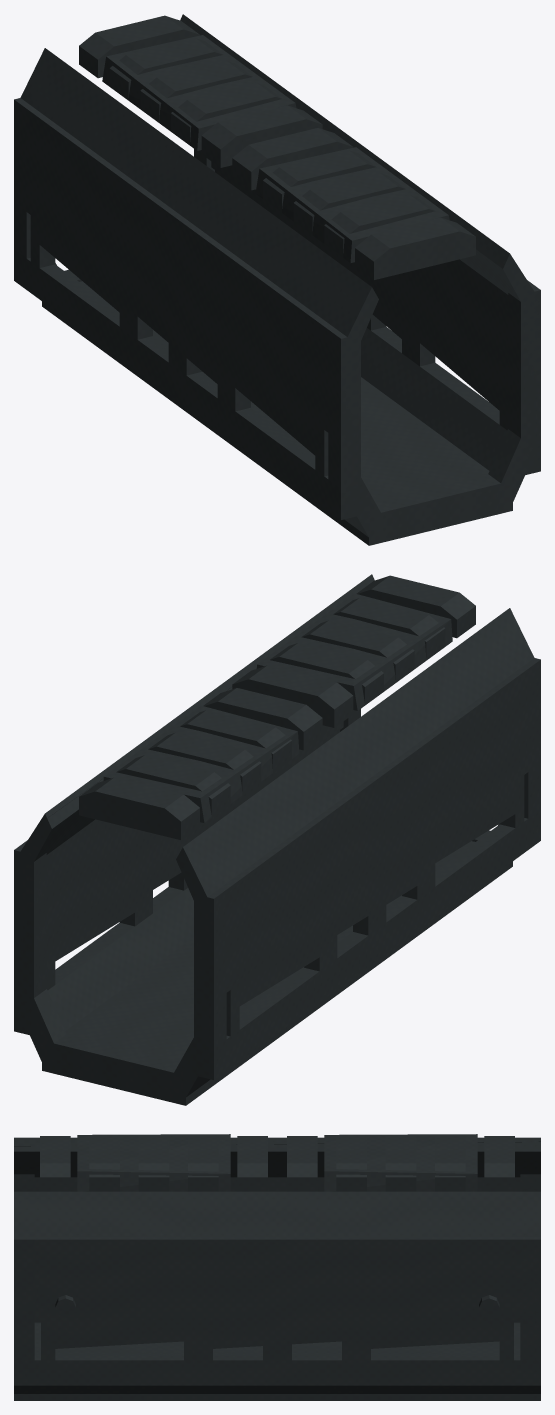
File: mcx_guard_short.glb
The picture shows the model from 3 angles, top to bottom: view 1: azimuth 30°, elevation 25°; view 2: azimuth 150°, elevation 25°; view 3: azimuth 270°, elevation 25°; orthographic projection. The views are drawn at different scales.
Parts seen in each view (by area): view 1: handguard__mcx_guard_short_LOD0_RAID_Secondary_Original_stee, handguard__mcx_guard_short_LOD1_RAID_Secondary_Original_stee; view 2: handguard__mcx_guard_short_LOD0_RAID_Secondary_Original_stee, handguard__mcx_guard_short_LOD1_RAID_Secondary_Original_stee; view 3: handguard__mcx_guard_short_LOD0_RAID_Secondary_Original_stee, handguard__mcx_guard_short_LOD1_RAID_Secondary_Original_stee.
Boxes of the visible parts, x1,y1,x2,y2 form: handguard__mcx_guard_short_LOD0_RAID_Secondary_Original_stee: (14,14,540,545); handguard__mcx_guard_short_LOD1_RAID_Secondary_Original_stee: (14,19,540,545); handguard__mcx_guard_short_LOD0_RAID_Secondary_Original_stee: (14,574,540,1105); handguard__mcx_guard_short_LOD1_RAID_Secondary_Original_stee: (14,593,538,1105); handguard__mcx_guard_short_LOD0_RAID_Secondary_Original_stee: (14,1136,540,1400); handguard__mcx_guard_short_LOD1_RAID_Secondary_Original_stee: (14,1134,540,1393).
Bounding box in the file's own units: 0.094 × 0.119 × 0.255.
1 material, 1 textured.
